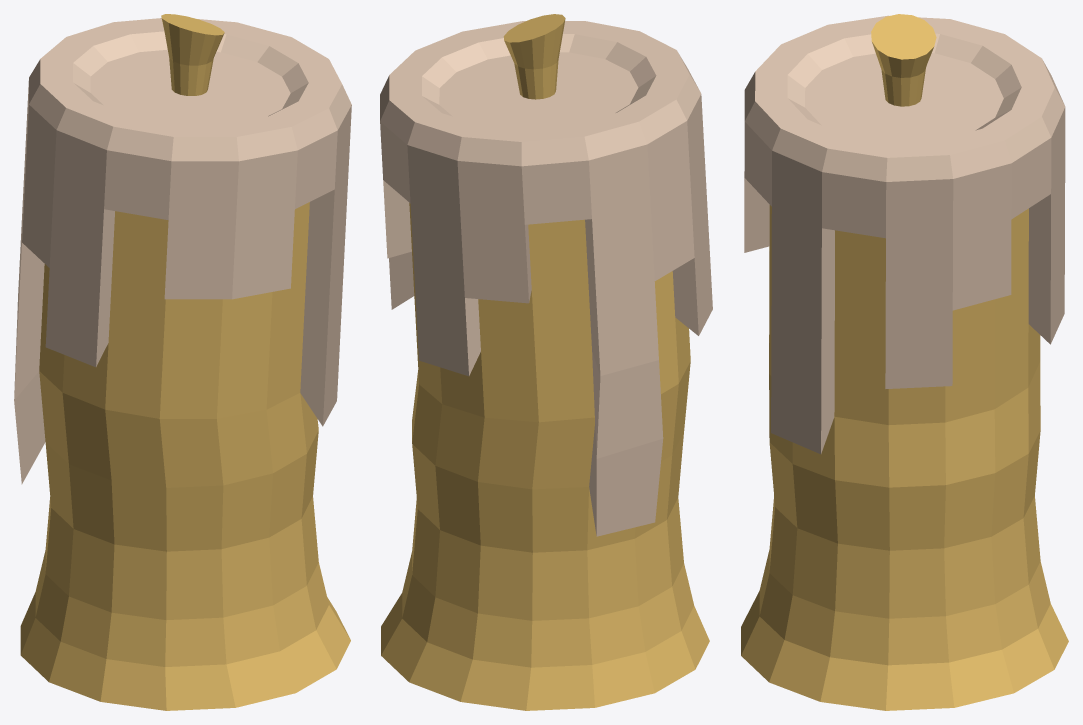
File: Candle.fbx
The picture shows the model from 3 angles, left to right: view 1: azimuth 30°, elevation 25°; view 2: azimuth 150°, elevation 25°; view 3: azimuth 270°, elevation 25°; orthographic projection.
Parts seen in each view (by area): view 1: Cylinder; view 2: Cylinder; view 3: Cylinder.
Part boxes in pixels (left/top/right/bottom): Cylinder: left=14, top=14, right=351, bottom=710; Cylinder: left=380, top=14, right=712, bottom=710; Cylinder: left=741, top=14, right=1068, bottom=710.
Bounding box in the file's own units: 244 × 498 × 239.
